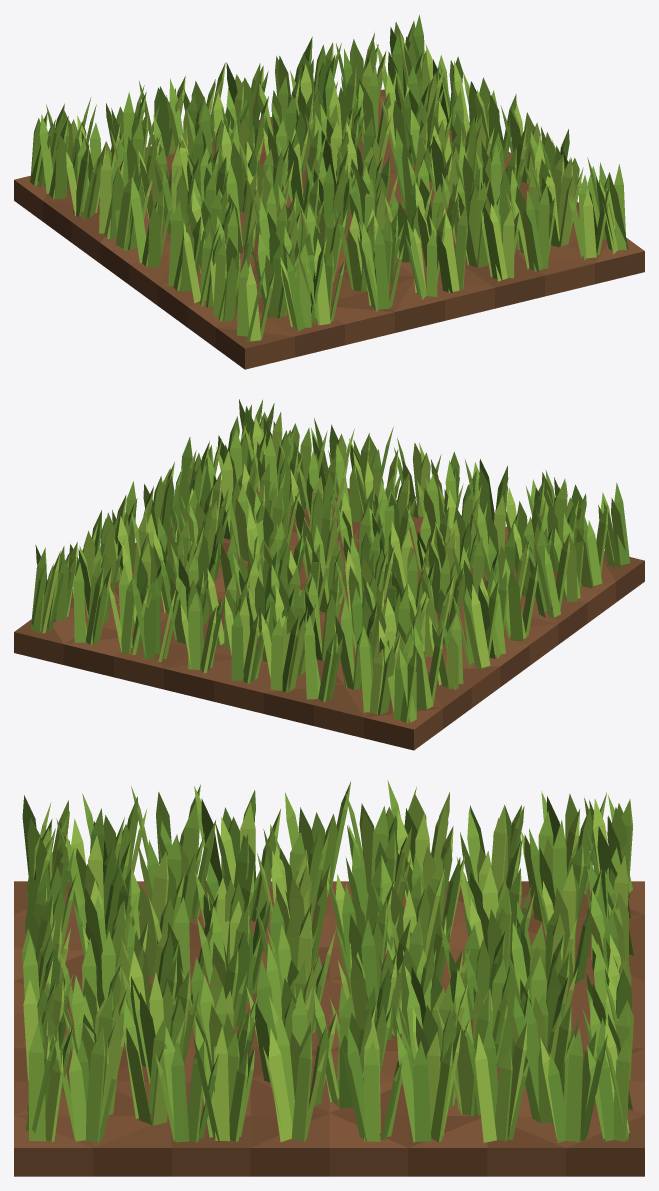
File: FMS_Crop_WheatField_Green.fbx
The picture shows the model from 3 angles, top to bottom: view 1: azimuth 30°, elevation 25°; view 2: azimuth 150°, elevation 25°; view 3: azimuth 270°, elevation 25°; orthographic projection. The views are drawn at different scales.
Parts seen in each view (by area): view 1: FMS_Crop_WheatField_Green; view 2: FMS_Crop_WheatField_Green; view 3: FMS_Crop_WheatField_Green.
Part boxes in pixels (box(x1,y1,x2,y2)): FMS_Crop_WheatField_Green: box(14, 14, 644, 369); FMS_Crop_WheatField_Green: box(14, 399, 644, 750); FMS_Crop_WheatField_Green: box(14, 780, 644, 1176).
Bounding box in the file's own units: 2 × 0.4819 × 2.
